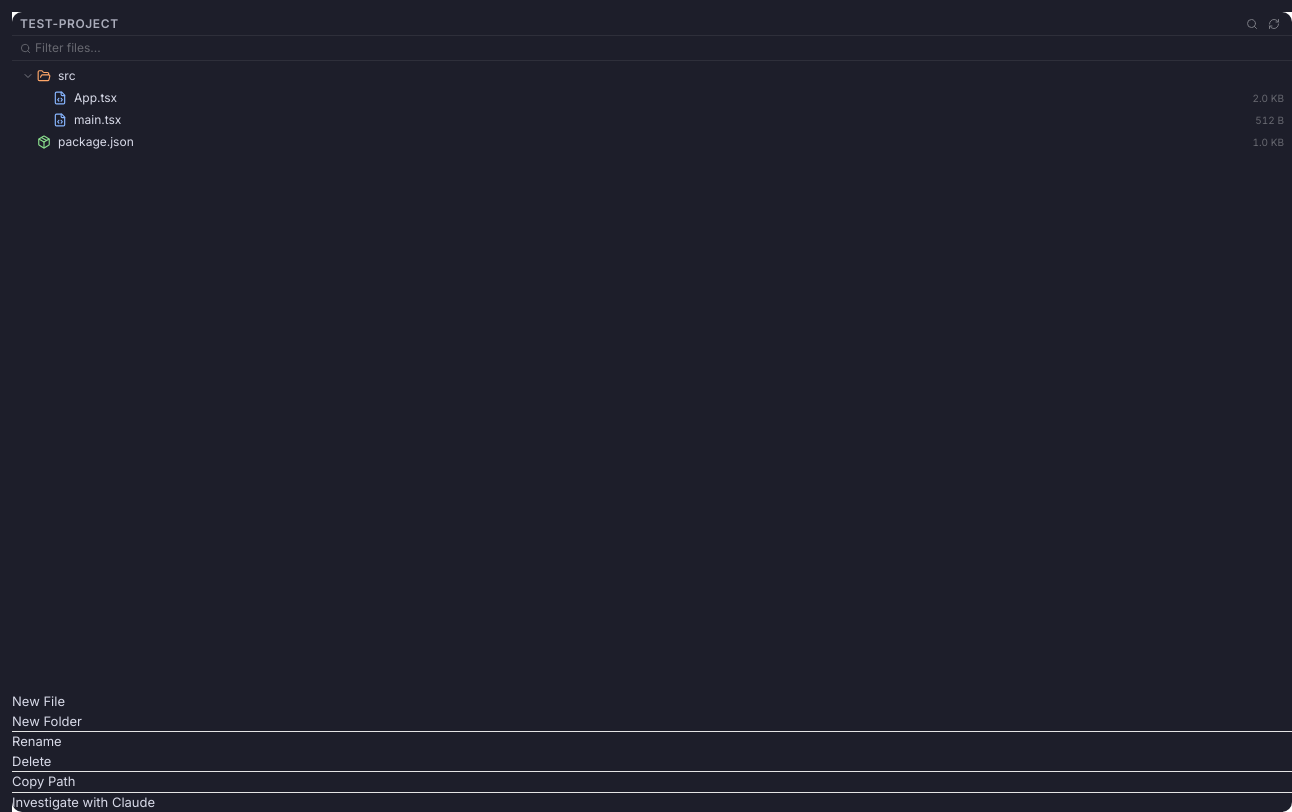
Scenario: FileExplorer › clears filter when X button is clicked
Type "something" into the field with placeholder "Filter files...". click: (660, 48)
box: x1=35 y1=36 x2=1284 y2=60
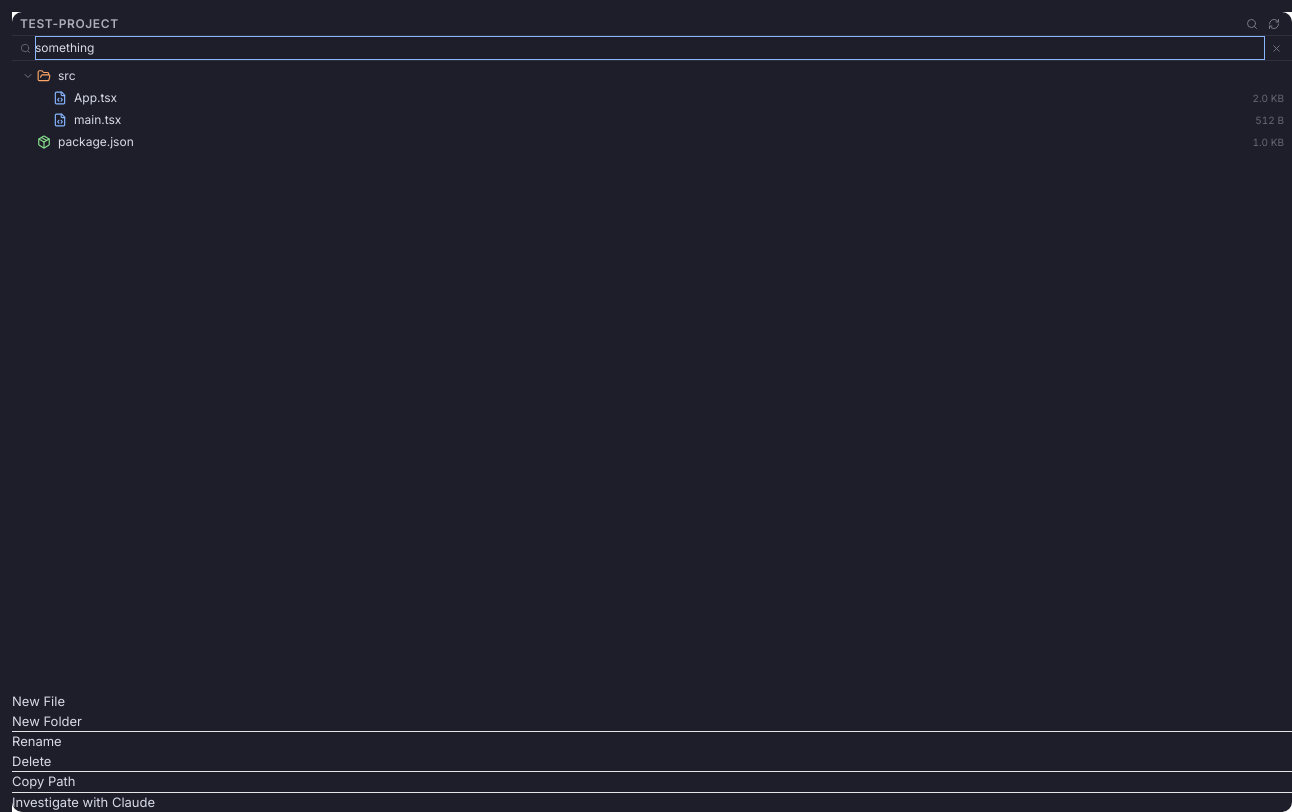
// Clear button should appear
Click the button named "Clear filter". click: (1276, 48)
box: x1=1269 y1=40 x2=1284 y2=56
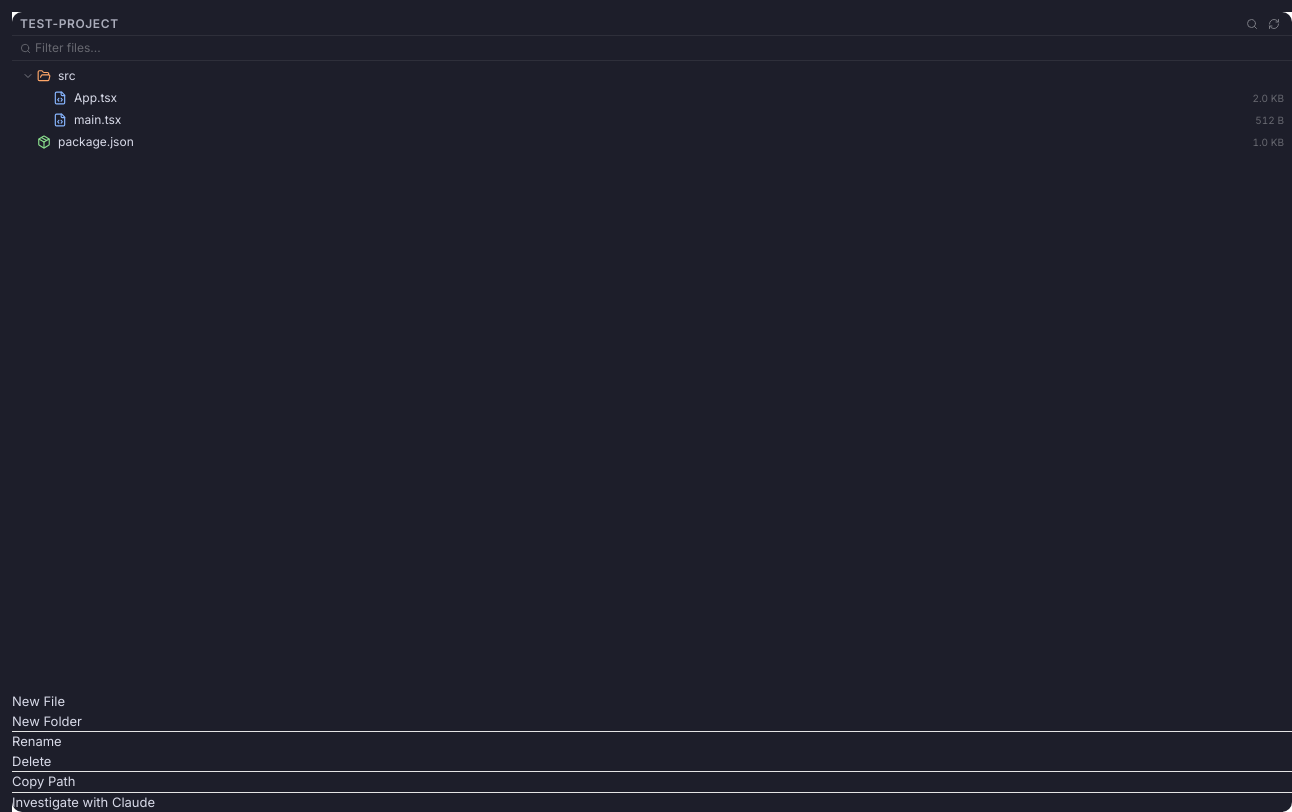
Expected: the field with placeholder "Filter files..." is empty, x1=35 y1=36 x2=1284 y2=60
